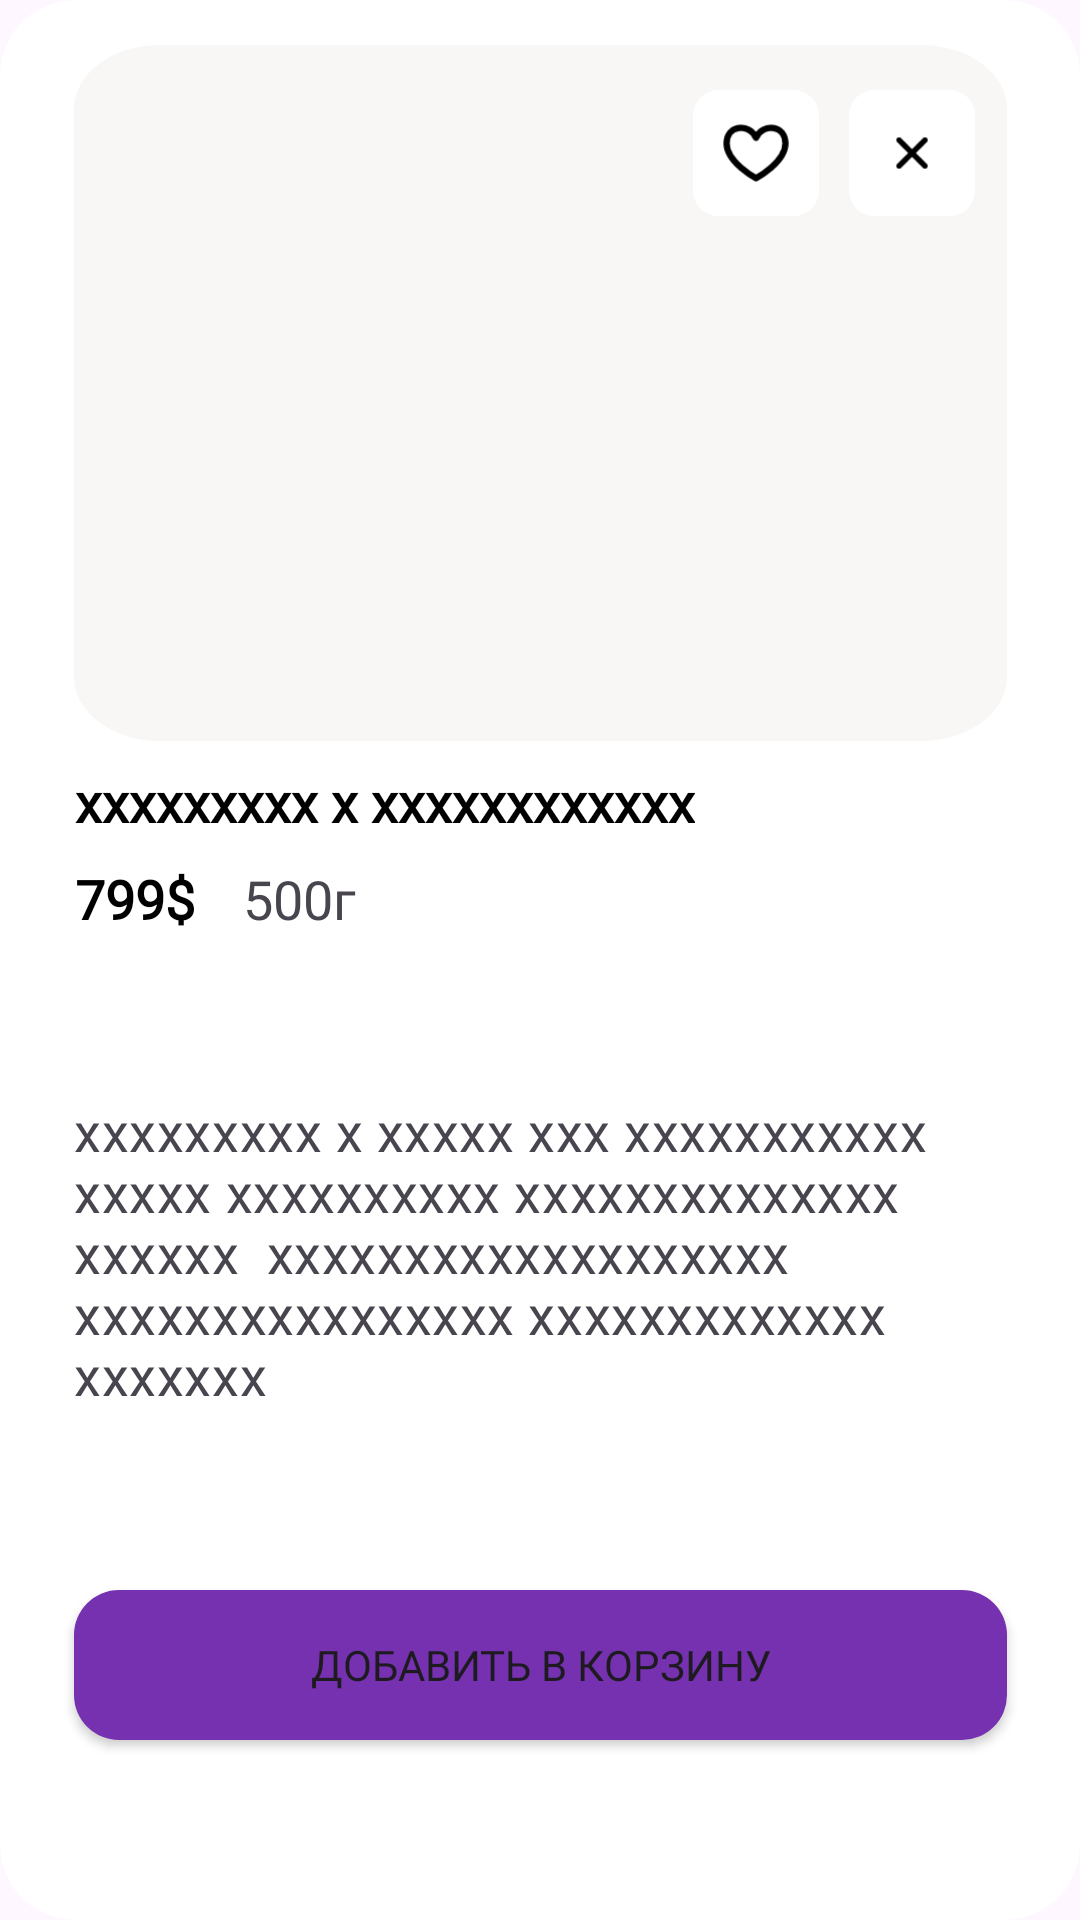

Locate icon controls on the screen. Image size 1080×1920, boxes as (x1, y1, x2, y2).
back dialog: (849, 90, 975, 216)
favorite: (693, 90, 819, 216)
